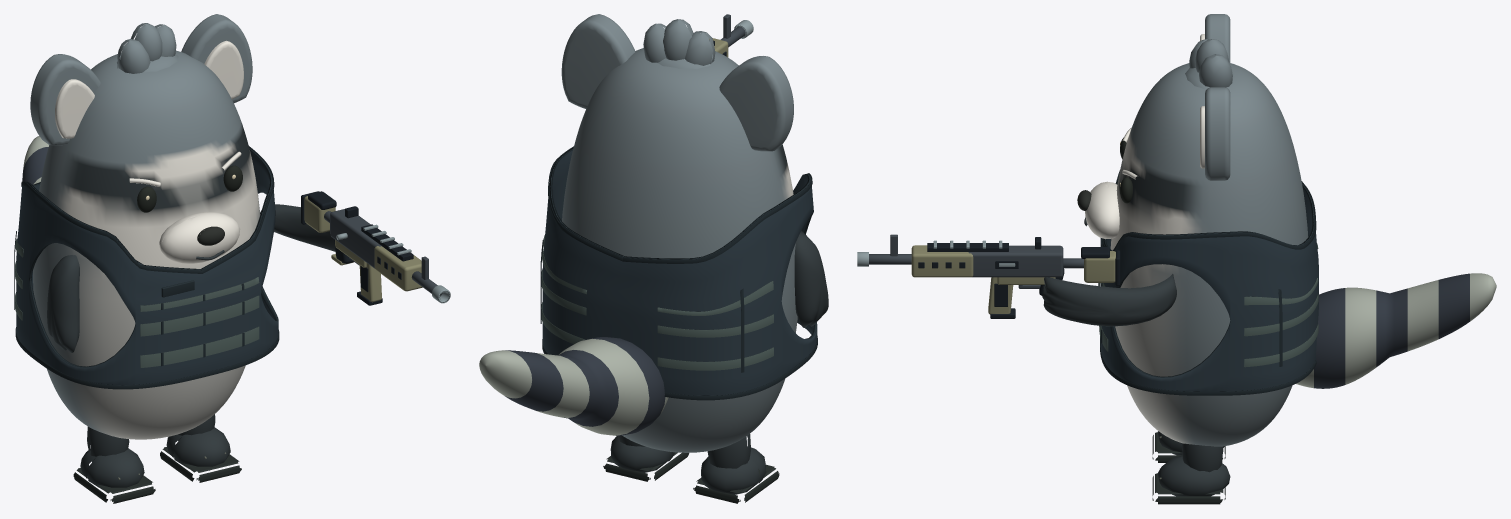
Rendered from fitted-species-raccoon-aim-preview.glb.
The picture shows the model from 3 angles, left to right: view 1: azimuth 30°, elevation 25°; view 2: azimuth 150°, elevation 25°; view 3: azimuth 270°, elevation 25°; orthographic projection. The views are drawn at different scales.
Visible parts, largest first — view 1: raccoon_aim_after_raccoon_torso_mesh, raccoon_aim_after_raccoon_vest_refined_mesh, raccoon_aim_after_raccoon_leftEar_mesh, raccoon_aim_after_raccoon_leftFoot_mesh, raccoon_aim_after_raccoon_rightEar_mesh, raccoon_aim_after_raccoon_snout_mesh, raccoon_aim_after_raccoon_rightFoot_mesh, raccoon_aim_after_prop_m4_m4 painted furniture, raccoon_aim_after_raccoon_leftArm_mesh, raccoon_aim_after_raccoon_crestShort_mesh, raccoon_aim_after_prop_m4_Cerakote graphite, raccoon_aim_after_prop_m4_Recesses and rubber (+3 smaller); view 2: raccoon_aim_after_raccoon_torso_mesh, raccoon_aim_after_raccoon_vest_refined_mesh, raccoon_aim_after_raccoon_tail_mesh, raccoon_aim_after_raccoon_leftEar_mesh, raccoon_aim_after_raccoon_rightEar_mesh, raccoon_aim_after_raccoon_leftFoot_mesh, raccoon_aim_after_raccoon_crestShort_mesh, raccoon_aim_after_raccoon_leftArm_mesh, raccoon_aim_after_raccoon_rightFoot_mesh, raccoon_aim_after_prop_m4_Cerakote graphite; view 3: raccoon_aim_after_raccoon_torso_mesh, raccoon_aim_after_raccoon_vest_refined_mesh, raccoon_aim_after_raccoon_tail_mesh, raccoon_aim_after_raccoon_rightArm_mesh, raccoon_aim_after_raccoon_rightFoot_mesh, raccoon_aim_after_prop_m4_Cerakote graphite, raccoon_aim_after_prop_m4_m4 painted furniture, raccoon_aim_after_raccoon_rightEar_mesh, raccoon_aim_after_prop_m4_Recesses and rubber, raccoon_aim_after_raccoon_crestShort_mesh, raccoon_aim_after_raccoon_snout_mesh, raccoon_aim_after_raccoon_leftEar_mesh.
Boxes of the visible parts, <box> form: raccoon_aim_after_raccoon_torso_mesh: <box>33,50,260,439</box>; raccoon_aim_after_raccoon_vest_refined_mesh: <box>14,146,279,389</box>; raccoon_aim_after_raccoon_leftEar_mesh: <box>30,54,100,145</box>; raccoon_aim_after_raccoon_leftFoot_mesh: <box>73,426,155,503</box>; raccoon_aim_after_raccoon_rightEar_mesh: <box>181,14,252,103</box>; raccoon_aim_after_raccoon_snout_mesh: <box>159,212,240,263</box>; raccoon_aim_after_raccoon_rightFoot_mesh: <box>160,414,241,482</box>; raccoon_aim_after_prop_m4_m4 painted furniture: <box>304,196,422,302</box>; raccoon_aim_after_raccoon_leftArm_mesh: <box>47,255,79,352</box>; raccoon_aim_after_raccoon_crestShort_mesh: <box>117,23,178,73</box>; raccoon_aim_after_prop_m4_Cerakote graphite: <box>324,209,442,295</box>; raccoon_aim_after_prop_m4_Recesses and rubber: <box>301,191,413,305</box>; raccoon_aim_after_raccoon_torso_mesh: <box>562,48,797,452</box>; raccoon_aim_after_raccoon_vest_refined_mesh: <box>540,146,817,400</box>; raccoon_aim_after_raccoon_tail_mesh: <box>479,337,668,435</box>; raccoon_aim_after_raccoon_leftEar_mesh: <box>719,56,793,151</box>; raccoon_aim_after_raccoon_rightEar_mesh: <box>561,14,635,108</box>; raccoon_aim_after_raccoon_leftFoot_mesh: <box>693,434,779,503</box>; raccoon_aim_after_raccoon_crestShort_mesh: <box>643,19,715,69</box>; raccoon_aim_after_raccoon_leftArm_mesh: <box>794,230,828,327</box>; raccoon_aim_after_raccoon_rightFoot_mesh: <box>603,435,689,481</box>; raccoon_aim_after_prop_m4_Cerakote graphite: <box>720,14,745,47</box>; raccoon_aim_after_raccoon_torso_mesh: <box>1110,62,1308,446</box>; raccoon_aim_after_raccoon_vest_refined_mesh: <box>1098,170,1318,395</box>; raccoon_aim_after_raccoon_tail_mesh: <box>1296,273,1496,388</box>; raccoon_aim_after_raccoon_rightArm_mesh: <box>1042,274,1176,326</box>; raccoon_aim_after_raccoon_rightFoot_mesh: <box>1152,443,1230,504</box>; raccoon_aim_after_prop_m4_Cerakote graphite: <box>869,234,1083,288</box>; raccoon_aim_after_prop_m4_m4 painted furniture: <box>911,245,1115,314</box>; raccoon_aim_after_raccoon_rightEar_mesh: <box>1200,87,1230,180</box>; raccoon_aim_after_prop_m4_Recesses and rubber: <box>918,237,1120,318</box>; raccoon_aim_after_raccoon_crestShort_mesh: <box>1185,39,1234,89</box>; raccoon_aim_after_raccoon_snout_mesh: <box>1077,181,1119,239</box>; raccoon_aim_after_raccoon_leftEar_mesh: <box>1200,14,1230,62</box>.
Bounding box in the file's own units: 1.25 × 1.98 × 2.63.
